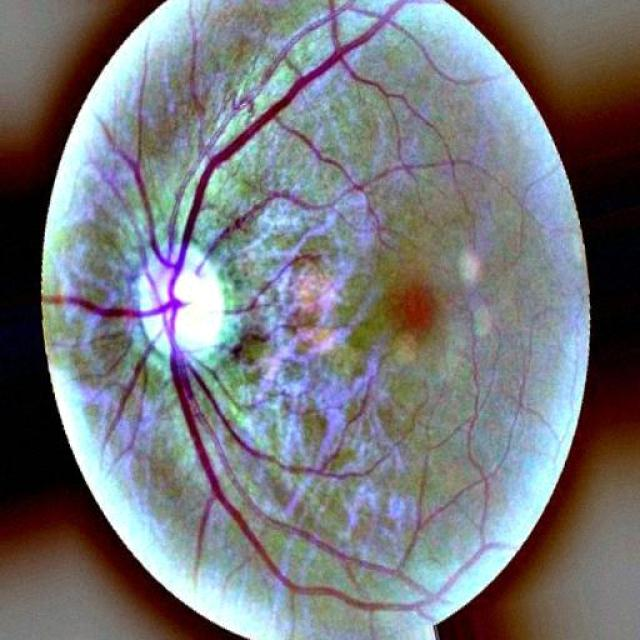Macula: (394, 284, 434, 331)
Nerves: (41, 0, 509, 619)
Optic Disk: (129, 245, 224, 356)
